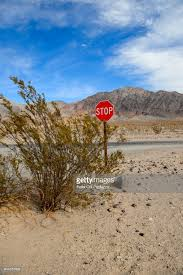Stop: (93, 99, 119, 128)
